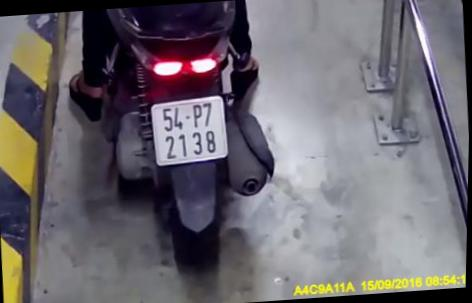LP: (148, 92, 233, 168)
